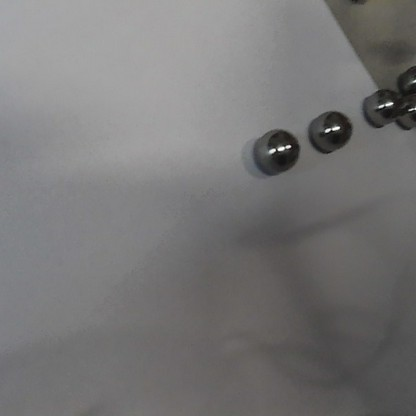ironball: (252, 129, 299, 176), (309, 105, 353, 153), (361, 89, 397, 125), (397, 92, 414, 133), (397, 60, 414, 92)
